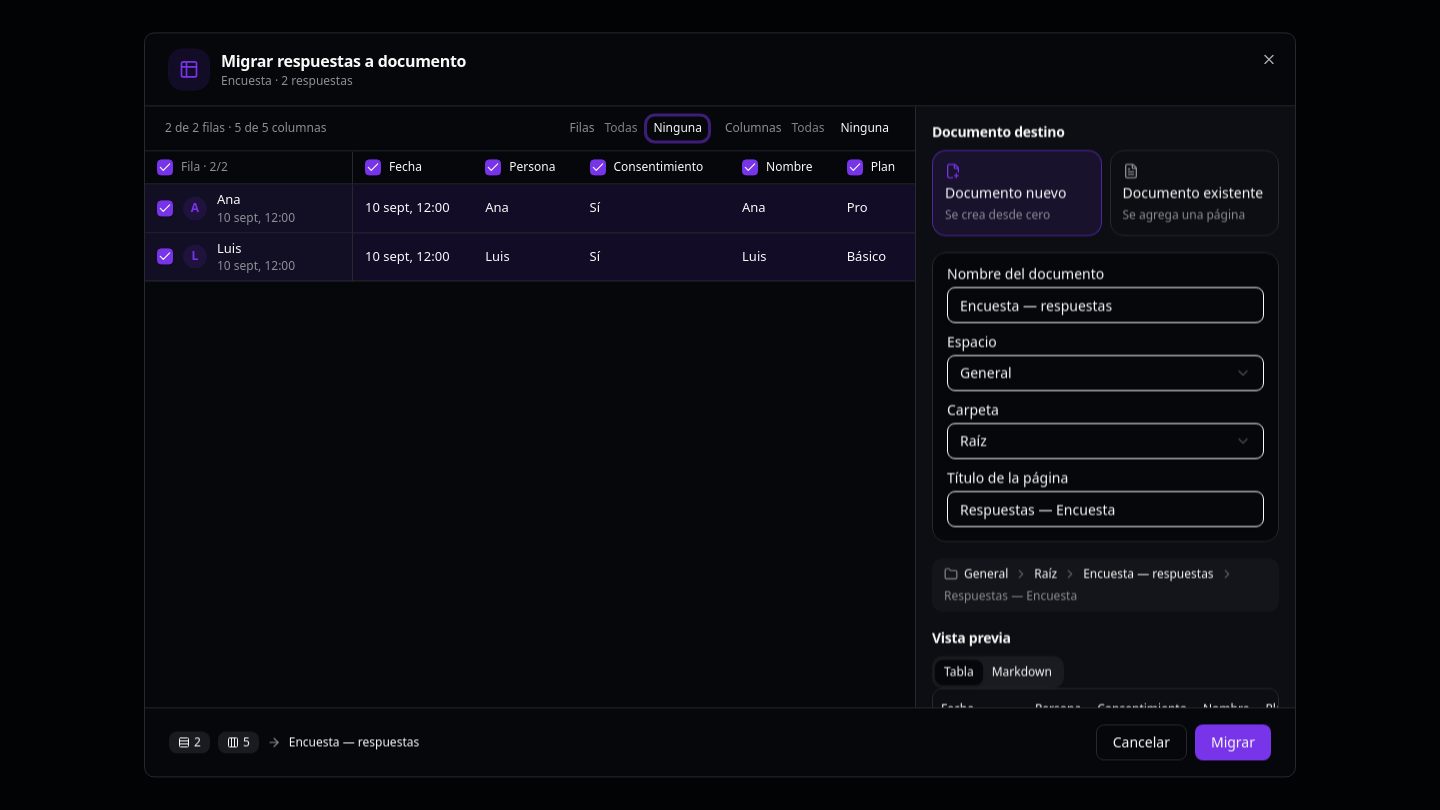
Scenario: MigrarRespuestasDialog › desmarcar todas las columnas deshabilita la migración
Step 1. Click the button with aria-label "Ninguna columna" → (865, 128), box [834,116,895,140]
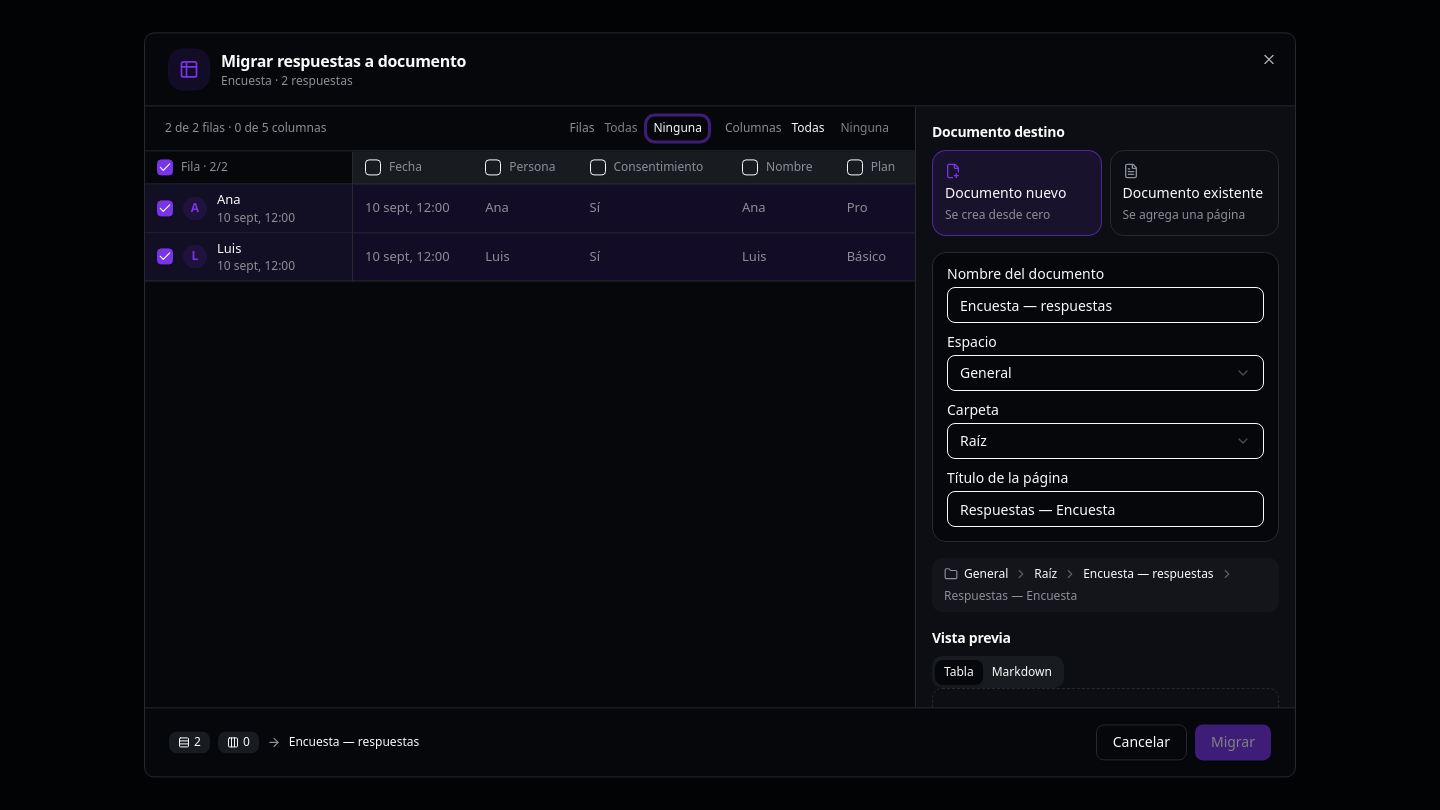
expect the button "Migrar" is disabled: met, box [1195,725,1271,761]
Step 2. Click the button with aria-label "Todas las columnas" → (808, 128), box [786,116,830,140]
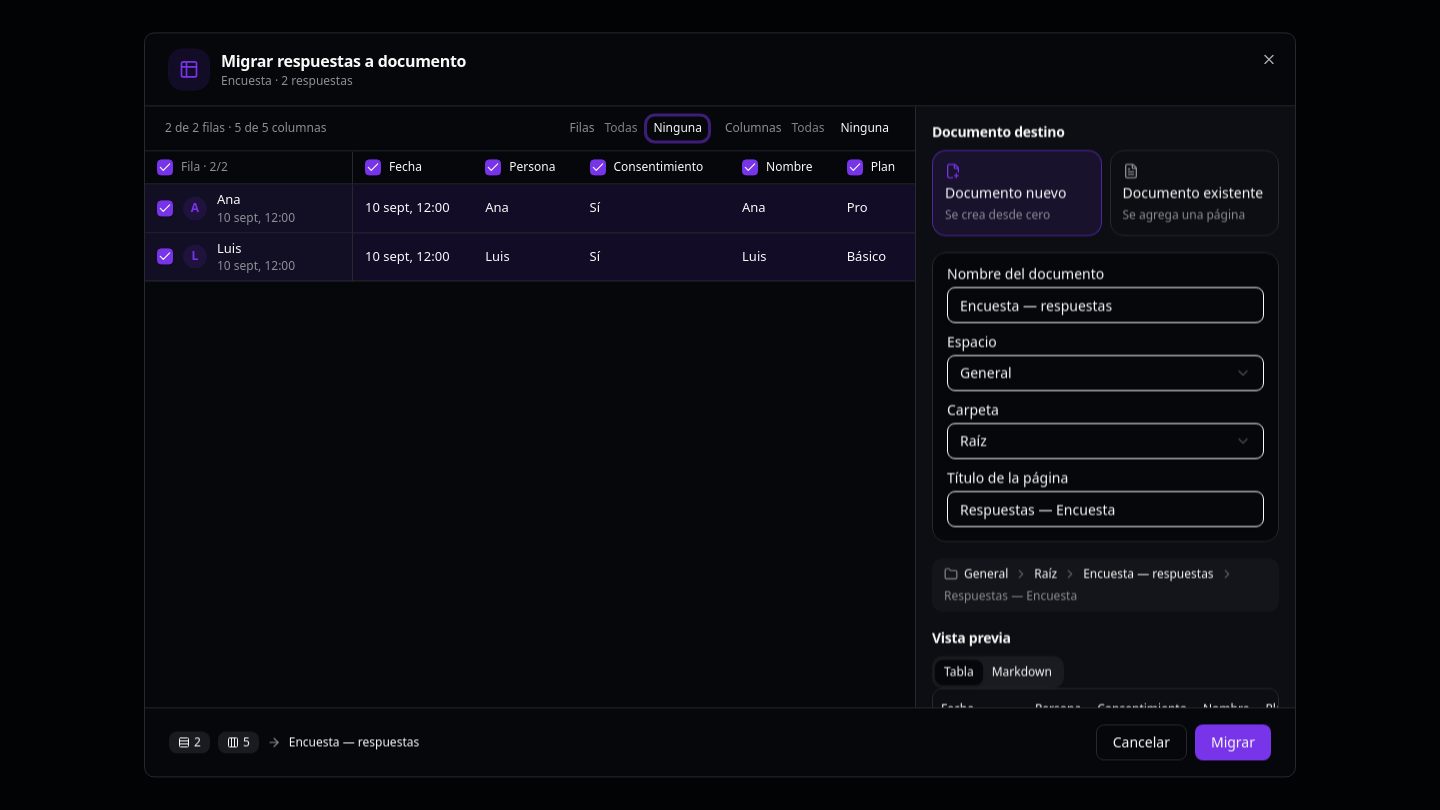
expect the button "Migrar" is enabled: met, box [1195,725,1271,761]
